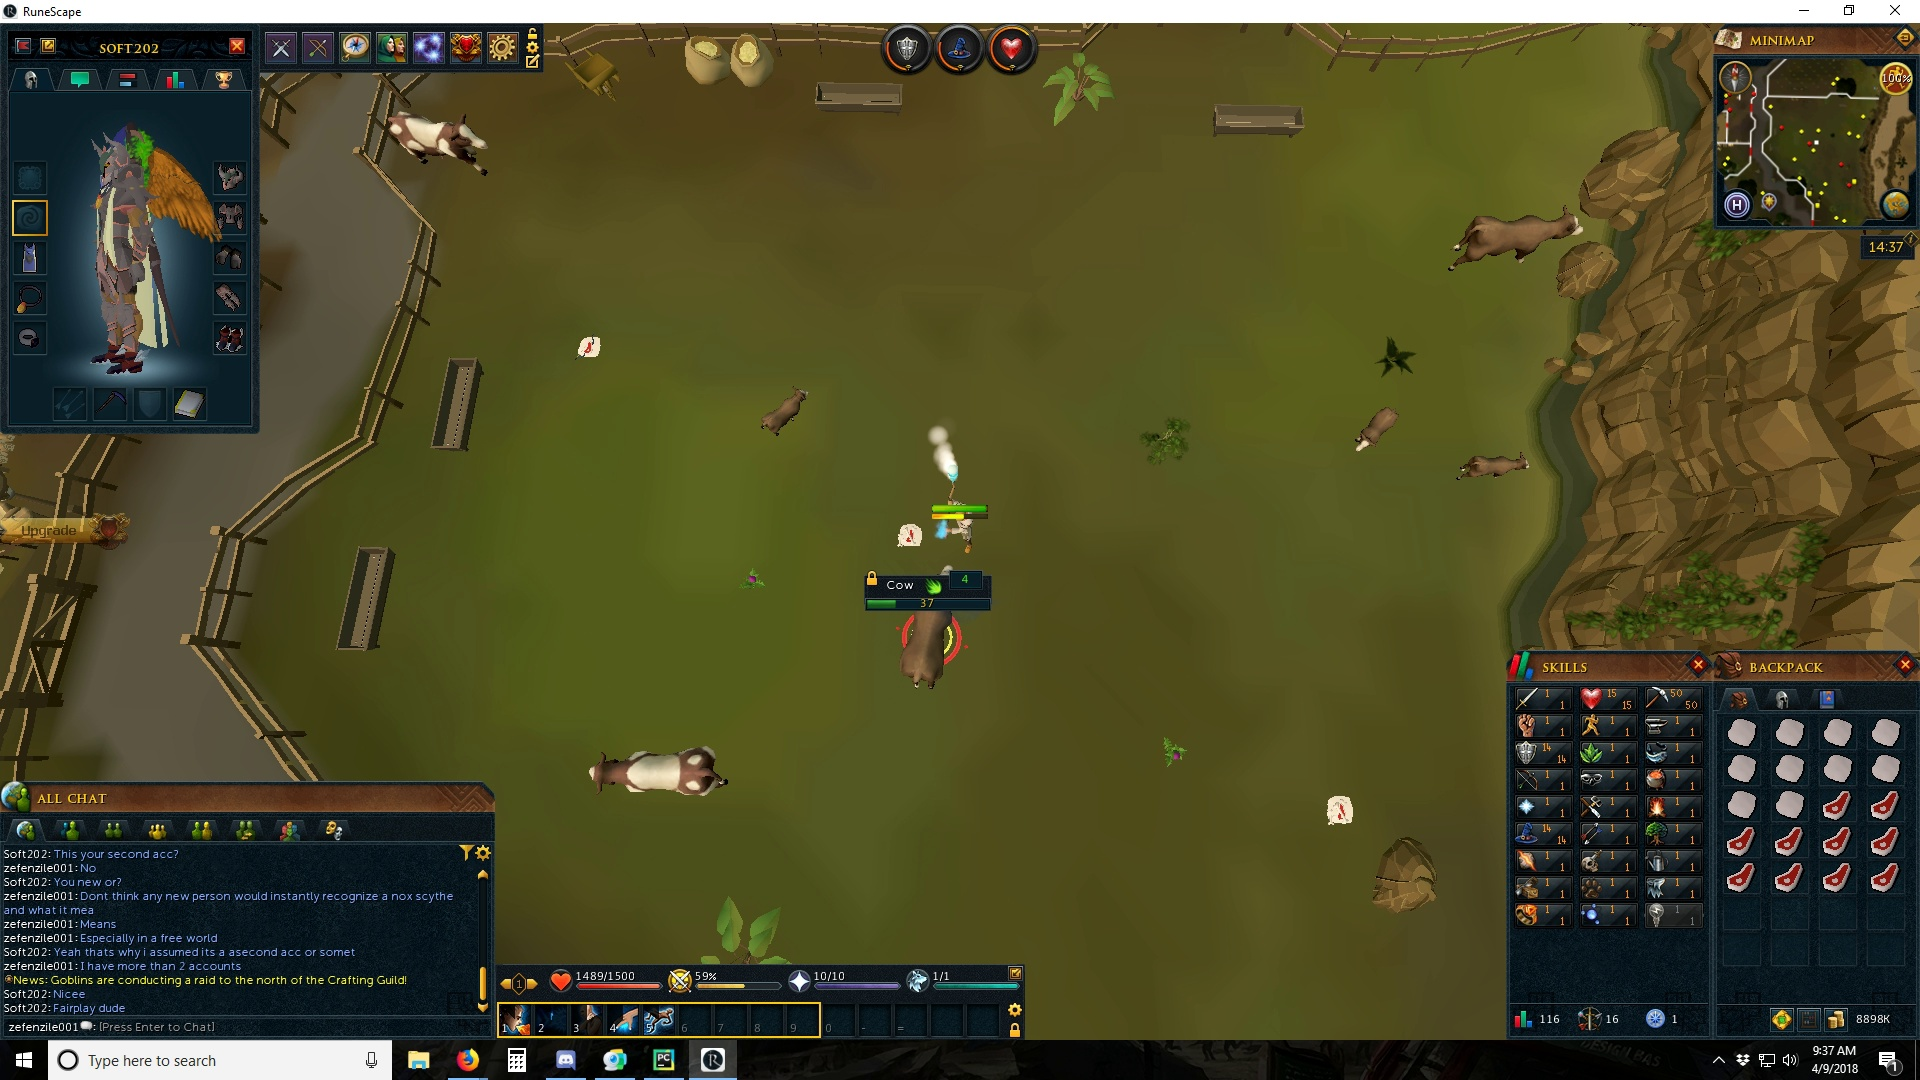calf: (758, 386, 814, 440), (1455, 448, 1534, 484), (1350, 405, 1402, 458)
cow: (1445, 202, 1586, 274), (582, 745, 728, 803), (378, 112, 496, 178), (895, 611, 956, 692)
cow_drop: (1323, 789, 1358, 828), (891, 521, 924, 549), (574, 331, 603, 361)
